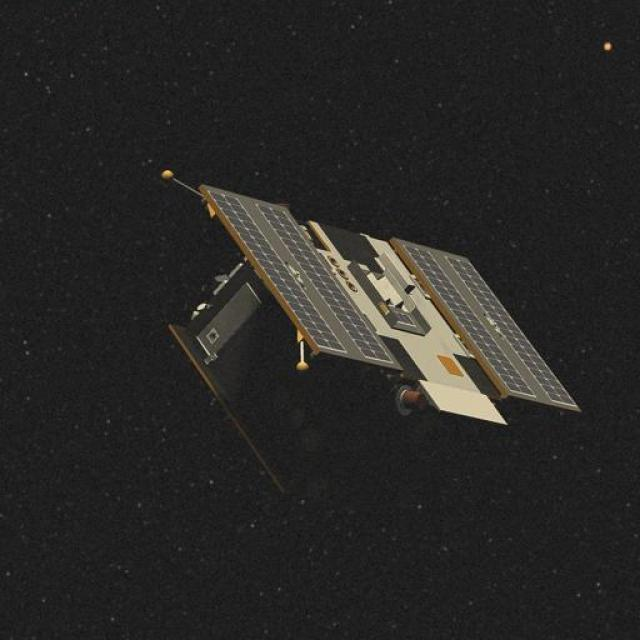proba_2: (190, 189, 550, 482)
